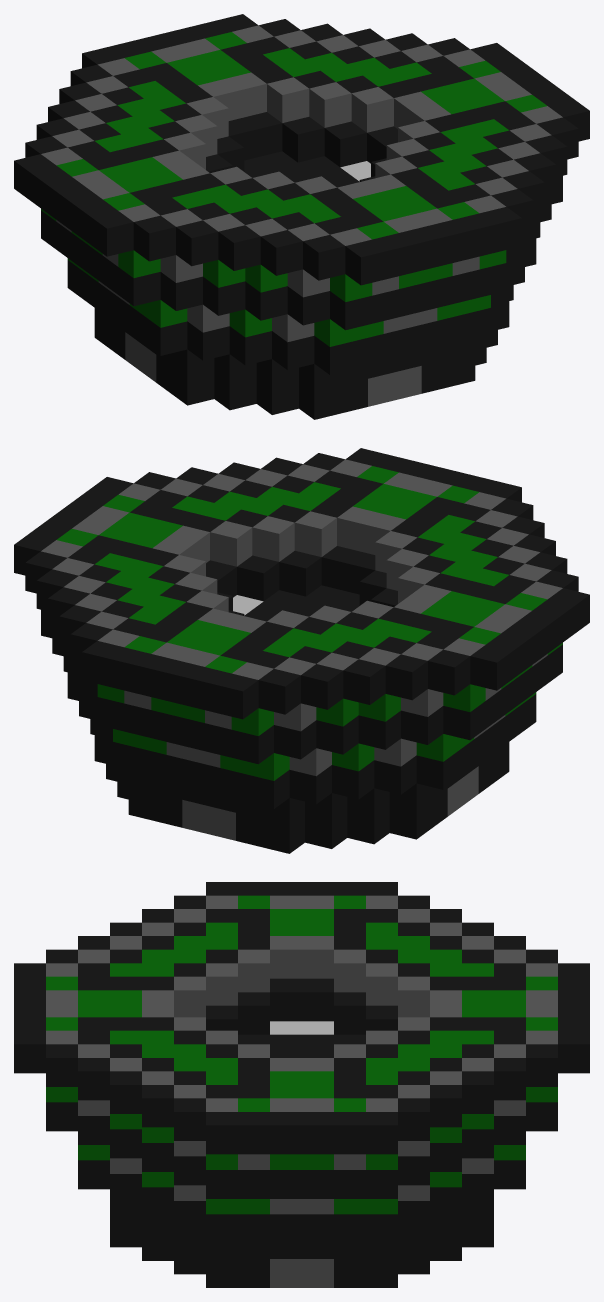
File: aoeTowerHead.fbx
3 renders of one model, top to bottom at view 1: azimuth 30°, elevation 25°; view 2: azimuth 150°, elevation 25°; view 3: azimuth 270°, elevation 25°, orthographic. The views are drawn at different scales.
Parts seen in each view (by area): view 1: aoeTower_1; view 2: aoeTower_1; view 3: aoeTower_1.
Boxes of the visible parts, x1,y1,x2,y2 form: aoeTower_1: [14, 14, 589, 419]; aoeTower_1: [14, 448, 589, 853]; aoeTower_1: [14, 882, 589, 1287].
Bounding box in the file's own units: 18 × 7 × 18.
Materials: 1 (1 with a texture image).
